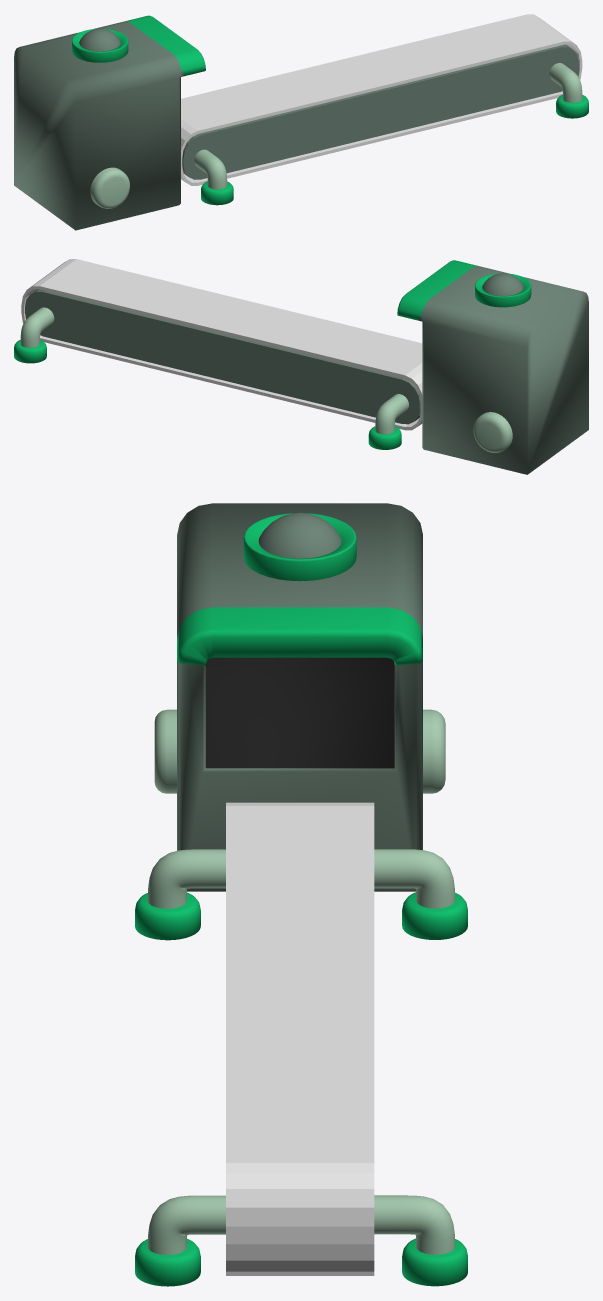
File: esteiraAnimadaComUV.fbx
3 renders of one model, top to bottom at view 1: azimuth 30°, elevation 25°; view 2: azimuth 150°, elevation 25°; view 3: azimuth 270°, elevation 25°, orthographic. The views are drawn at different scales.
Parts seen in each view (by area): view 1: caixa, Plane.001, Plane.002, pes, Circle, Circle.001, Sphere; view 2: caixa, Plane.001, Plane.002, pes, Circle, Circle.001, Sphere; view 3: caixa, Plane.001, pes, Circle.001, Circle, Sphere.
Boxes of the visible parts, x1,y1,x2,y2 form: caixa: (14,15,205,230); Plane.001: (181,14,582,185); Plane.002: (182,44,578,179); pes: (194,63,588,205); Circle: (90,167,129,208); Circle.001: (72,28,128,62); Sphere: (79,28,120,51); caixa: (397,260,588,474); Plane.001: (21,259,422,430); Plane.002: (25,289,420,424); pes: (14,307,408,449); Circle: (473,412,512,452); Circle.001: (475,273,531,307); Sphere: (482,273,523,295); caixa: (177,503,422,891); Plane.001: (226,802,374,1275); pes: (135,849,467,1286); Circle.001: (243,513,356,581); Circle: (154,709,445,793); Sphere: (258,512,341,558).
Bounding box in the file's own units: 803 × 242 × 224.
